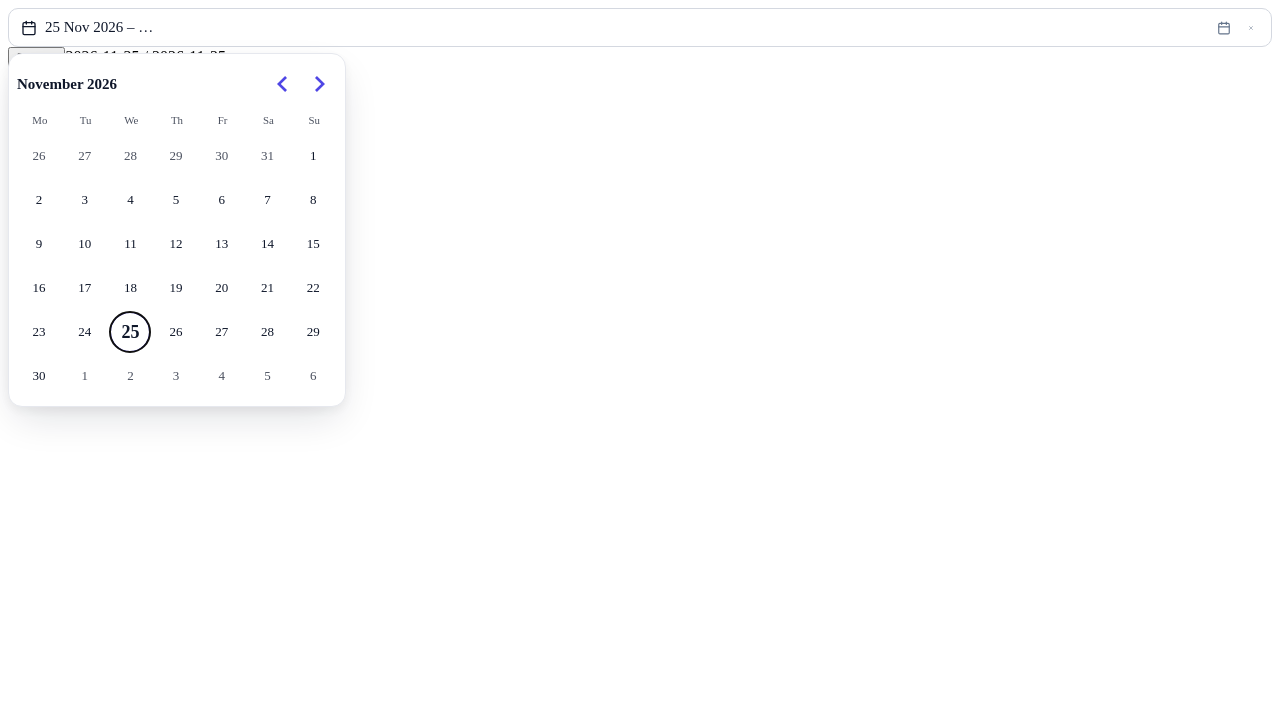
Test: previews the hovered end date without changing saved dates and clears on leaving
Earlier steps of the test are not shown.
Hover over the button named "November 28th, 2026": (268, 332) [246,311,288,353]
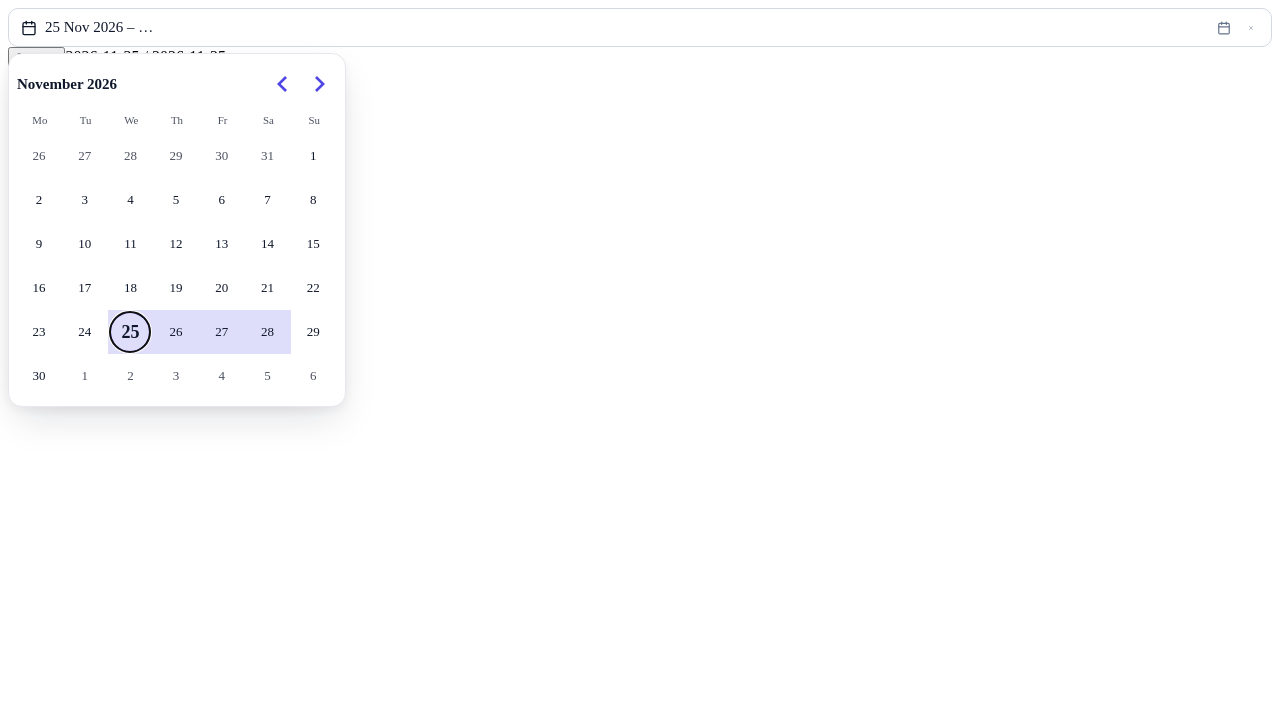
Expected: the text named "Saved dates" reads "2026-11-25 / 2026-11-25", [66,48,226,65]
Hover over the button named "November 24th, 2026": (85, 332) [64,311,106,353]
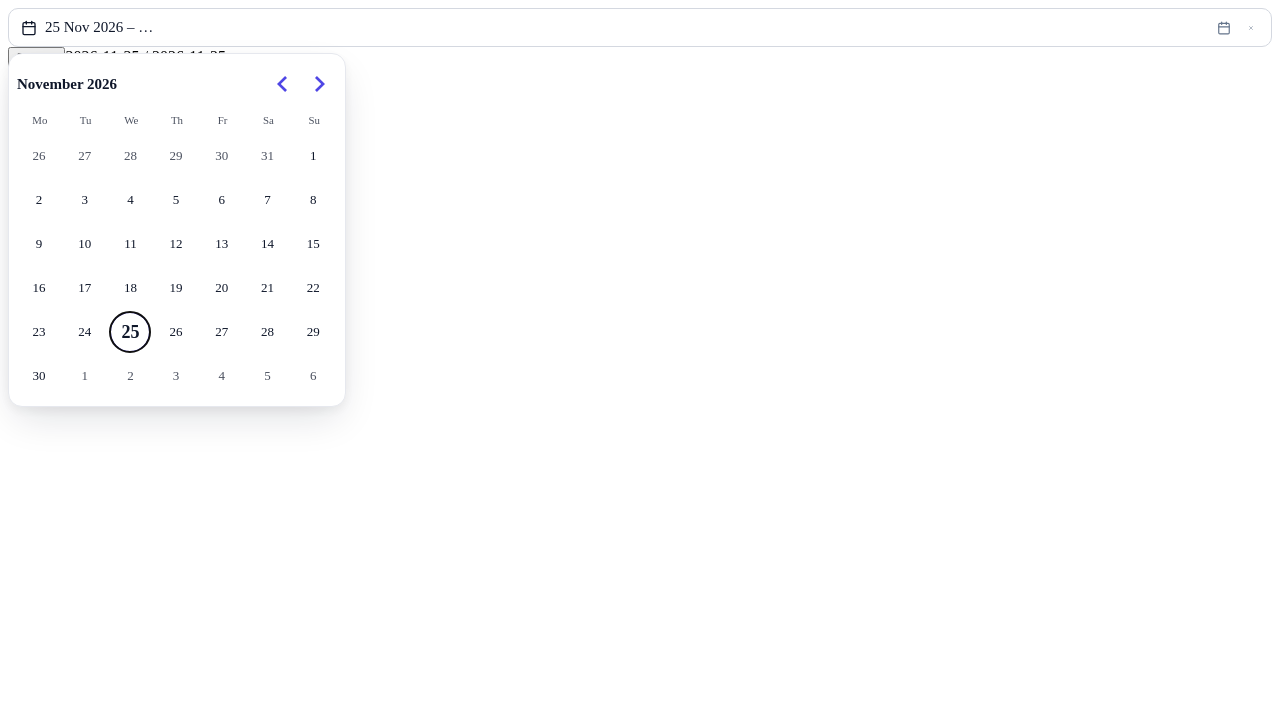
Hover over the button named "November 28th, 2026": (268, 332) [246,311,288,353]
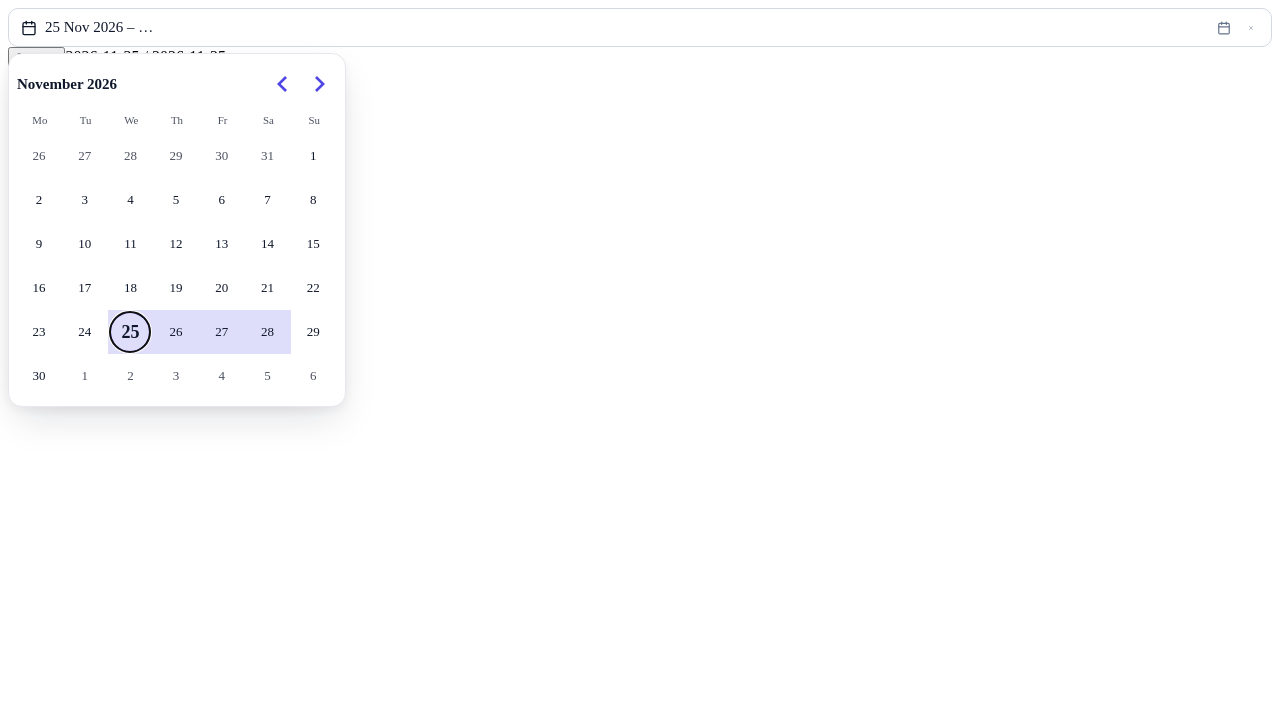
Move the pointer off the dialog, box [8,53,346,407]
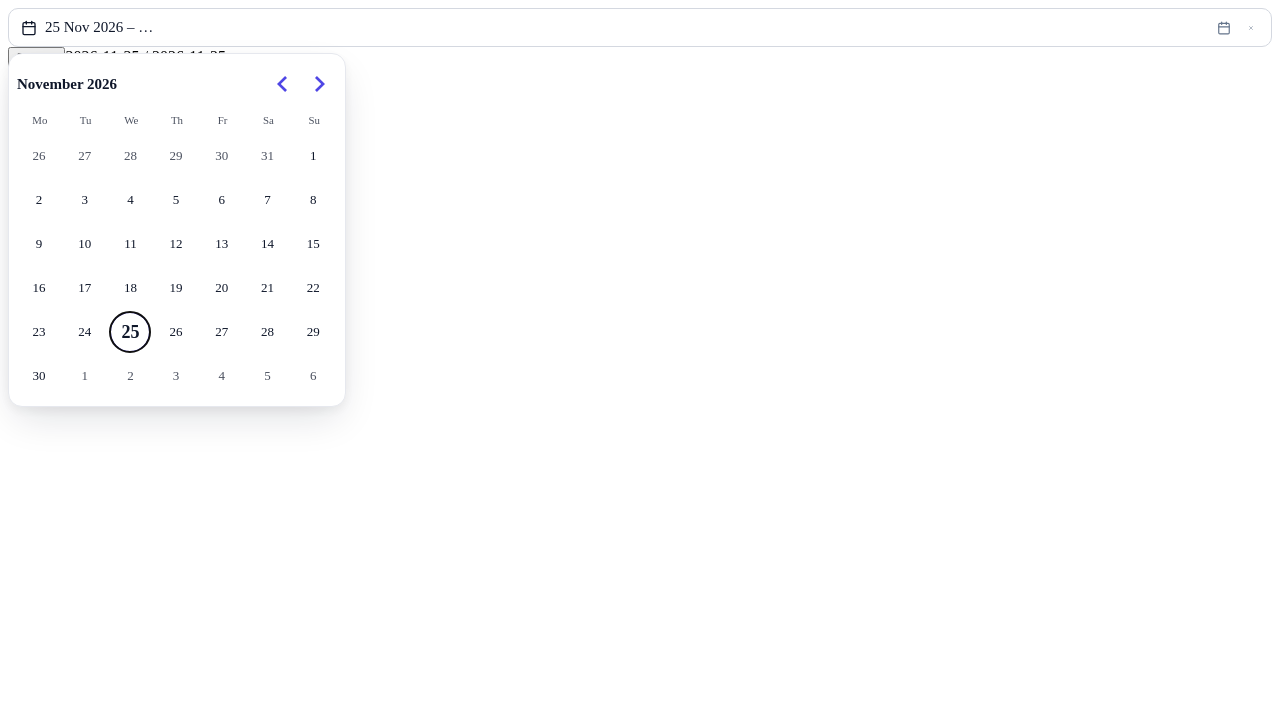
Hover over the button named "November 28th, 2026": (268, 332) [246,311,288,353]
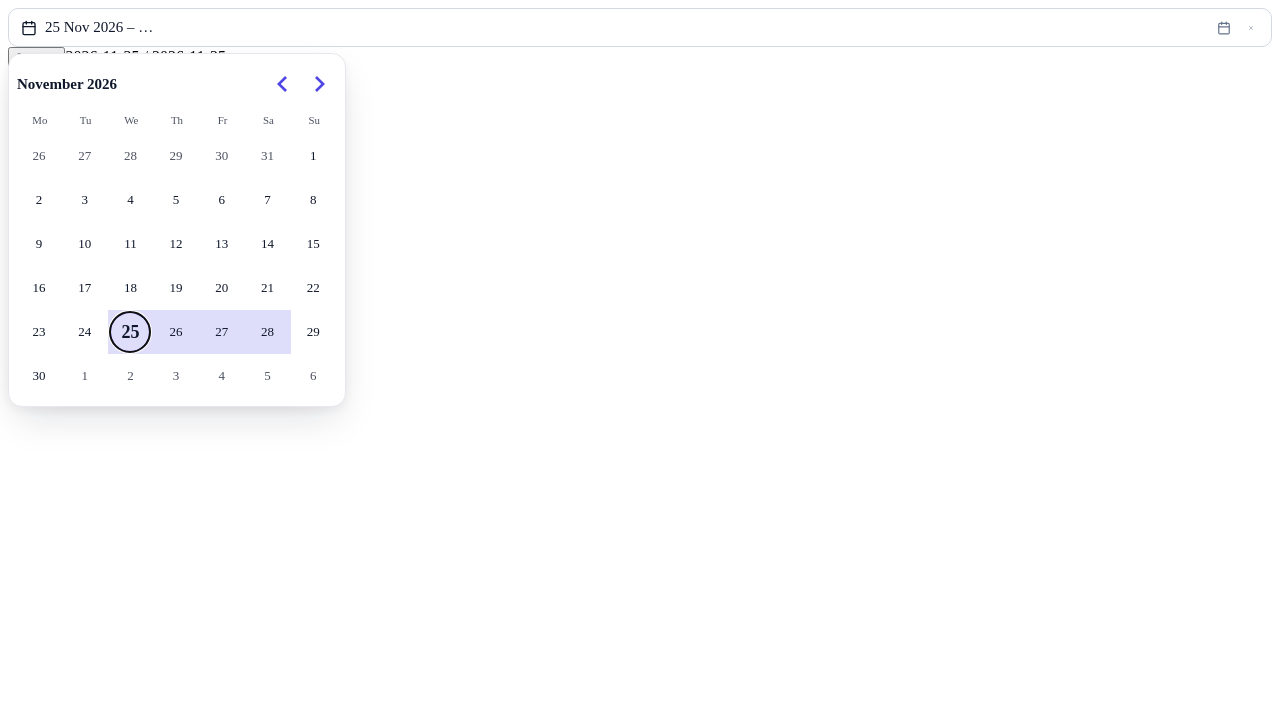
Click the button named "November 28th, 2026": (268, 332) [246,311,288,353]
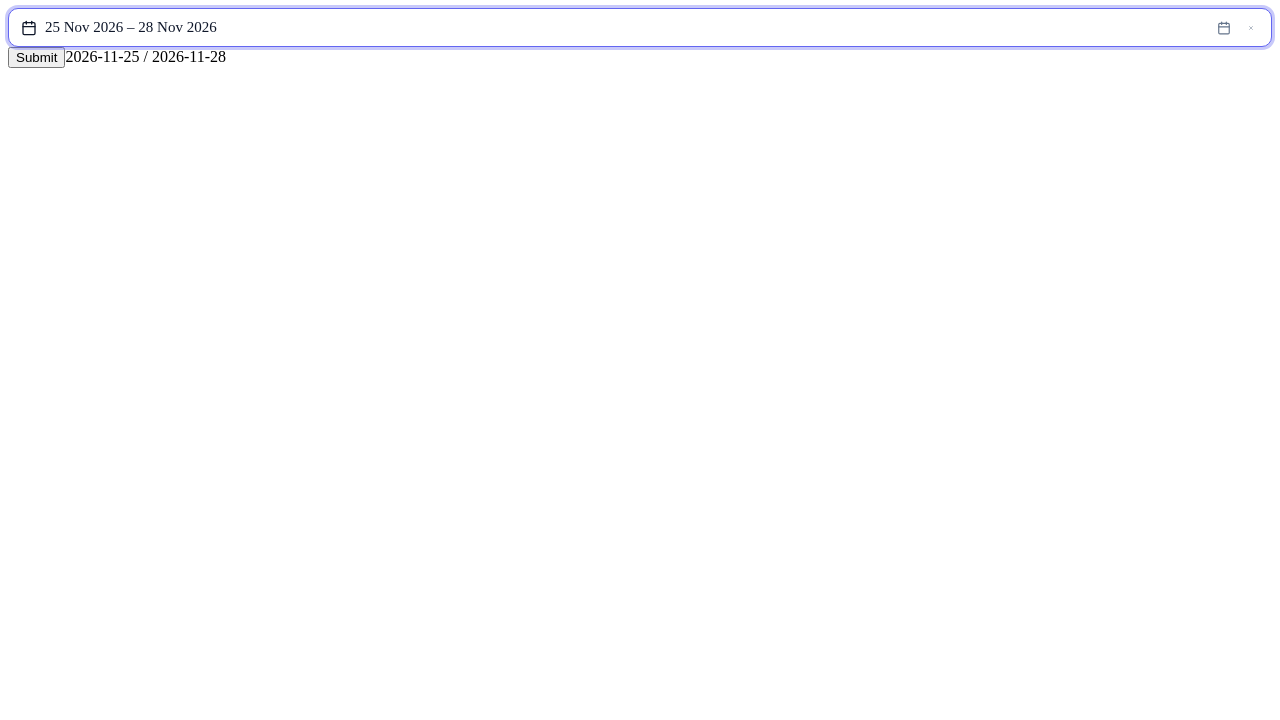
Expected: the text named "Saved dates" reads "2026-11-25 / 2026-11-28", [66,48,226,65]
